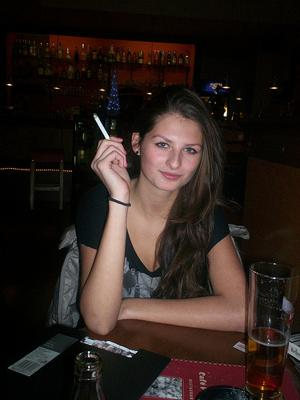person: (76, 85, 257, 340)
